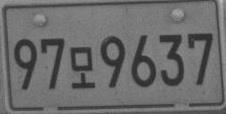3: (159, 34, 184, 87)
6: (131, 35, 157, 87)
7: (187, 32, 213, 85), (39, 37, 64, 90)
9: (99, 35, 126, 87), (13, 38, 37, 90)
모: (69, 46, 95, 89)
